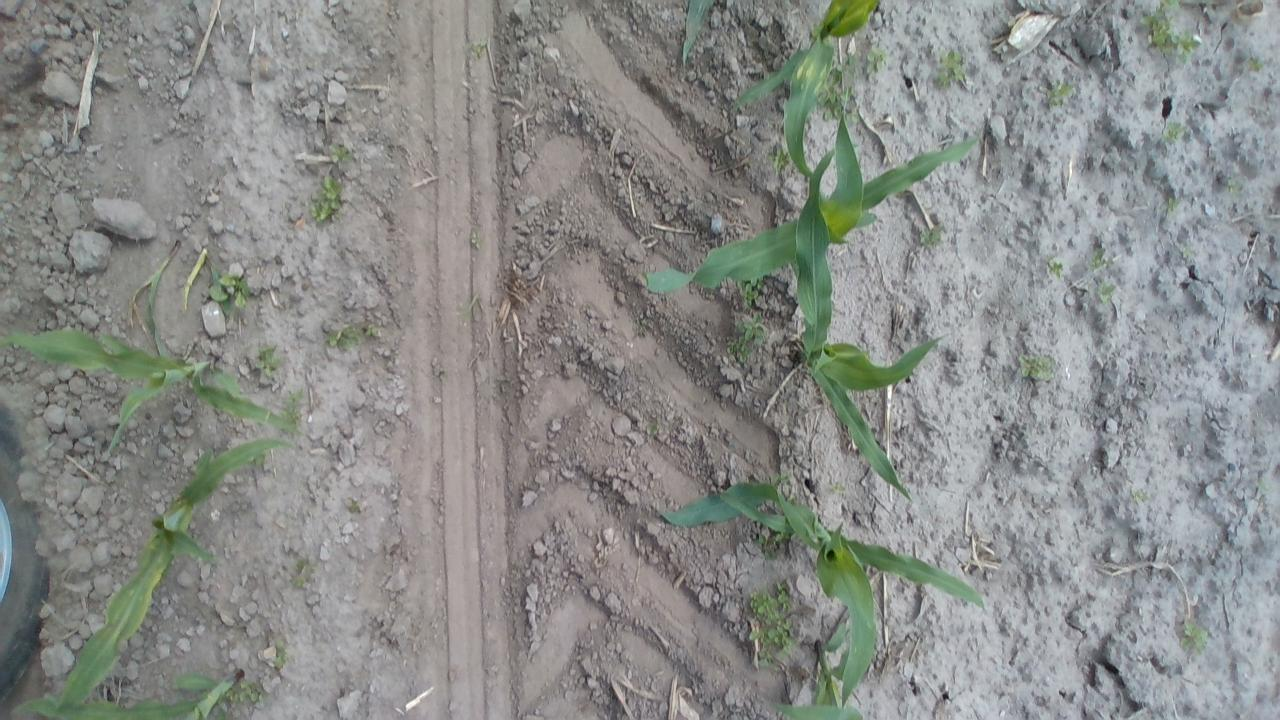Maize: (659, 468, 995, 708), (34, 434, 302, 718), (773, 146, 950, 505), (642, 112, 989, 294), (0, 307, 303, 455), (726, 0, 887, 171), (16, 653, 260, 717), (116, 232, 208, 353), (784, 616, 872, 720), (679, 0, 711, 75)
Weeds: (742, 575, 798, 671), (1136, 0, 1204, 55), (726, 310, 768, 364), (208, 270, 250, 318), (307, 174, 343, 223), (930, 49, 969, 91), (1174, 614, 1214, 652), (818, 74, 851, 120), (1015, 349, 1056, 384), (321, 320, 365, 351), (250, 344, 284, 382), (287, 554, 317, 592), (752, 532, 788, 562), (738, 274, 767, 310), (1045, 77, 1076, 110), (860, 44, 888, 80), (230, 681, 266, 706), (458, 292, 486, 323), (268, 636, 292, 672), (624, 314, 654, 342), (916, 224, 944, 252), (766, 146, 794, 172), (1164, 116, 1188, 146), (282, 397, 304, 429), (327, 140, 353, 167), (1094, 278, 1118, 306), (1086, 246, 1111, 272), (284, 390, 304, 422), (491, 369, 513, 396), (1223, 176, 1245, 200), (1242, 55, 1268, 74), (363, 320, 383, 343), (470, 36, 490, 59), (1046, 256, 1066, 278), (344, 494, 364, 515), (466, 228, 485, 250), (1252, 476, 1270, 496), (1129, 488, 1150, 505), (643, 422, 660, 441), (1178, 241, 1195, 260), (1164, 194, 1180, 214), (832, 482, 848, 496)
